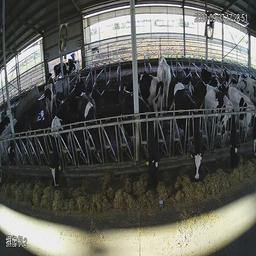cow: (116, 91, 164, 205), (203, 80, 241, 176), (173, 77, 206, 187), (76, 93, 109, 190), (110, 65, 166, 115), (46, 89, 70, 189), (4, 107, 34, 176), (229, 82, 255, 150), (153, 43, 173, 111), (41, 67, 60, 120), (59, 50, 82, 84)
